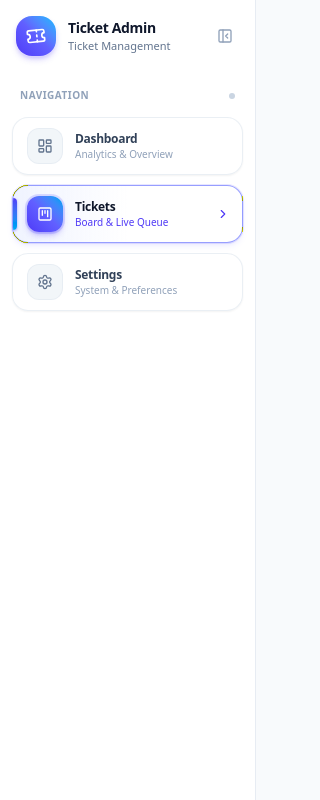
Test case: Sidebar Component Layout Enhancements › toggles to collapsed mode when collapse button is clicked
Click the button titled "Collapse sidebar". click: (225,36)
box: [211,22,239,50]
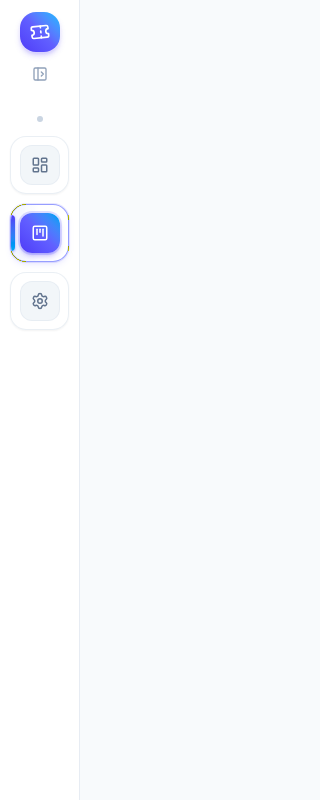
Expected: the button titled "Expand sidebar" is shown, [26,60,54,88]
Result: the text "Ticket Management" is gone
